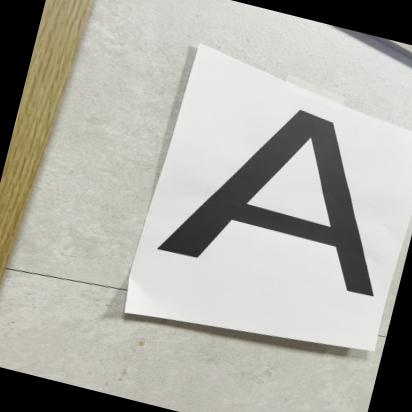seat: (133, 75, 412, 325)
